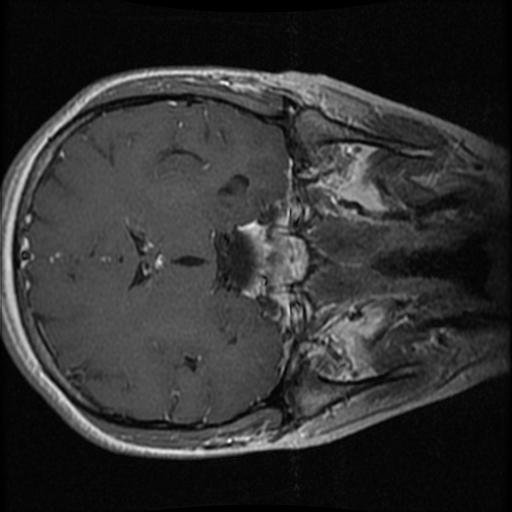pituitary tumour: (240, 220, 269, 298)
